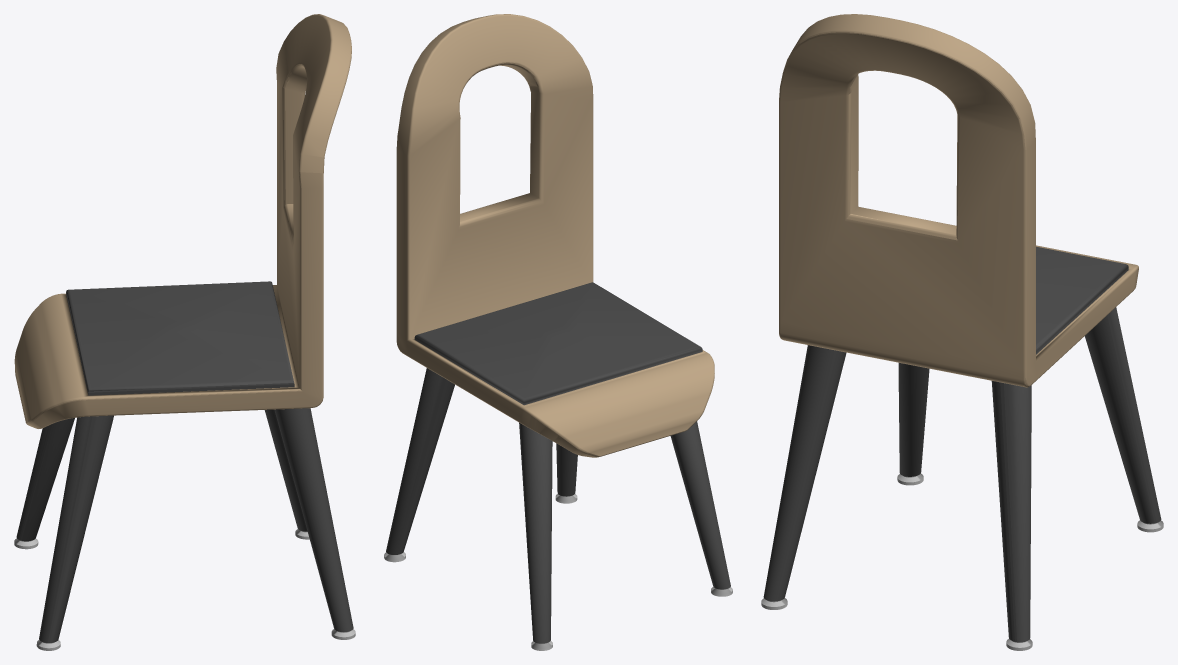
The model's file is Chair 1.fbx.
3 views of the same model, side by side, from view 1: azimuth 30°, elevation 25°; view 2: azimuth 150°, elevation 25°; view 3: azimuth 270°, elevation 25° (orthographic). The views are drawn at different scales.
Parts seen in each view (by area): view 1: Chair.001; view 2: Chair.001; view 3: Chair.001.
Part boxes in pixels (left/top/right/bottom): Chair.001: left=14, top=14, right=355, bottom=650; Chair.001: left=384, top=14, right=732, bottom=650; Chair.001: left=761, top=14, right=1163, bottom=650.
Bounding box in the file's own units: 99.62 × 161 × 96.48.
